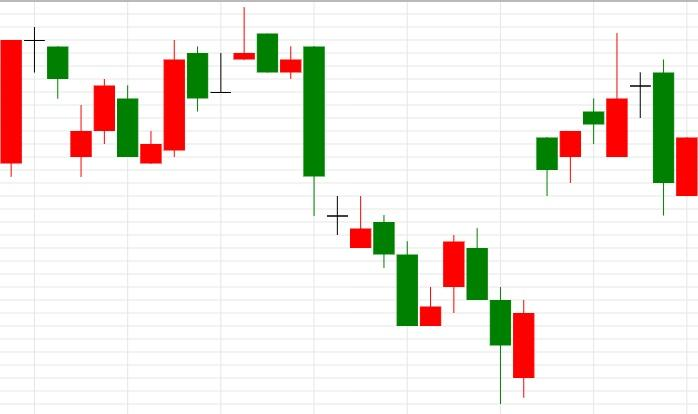evening_star_fall: (512, 33, 675, 398)
